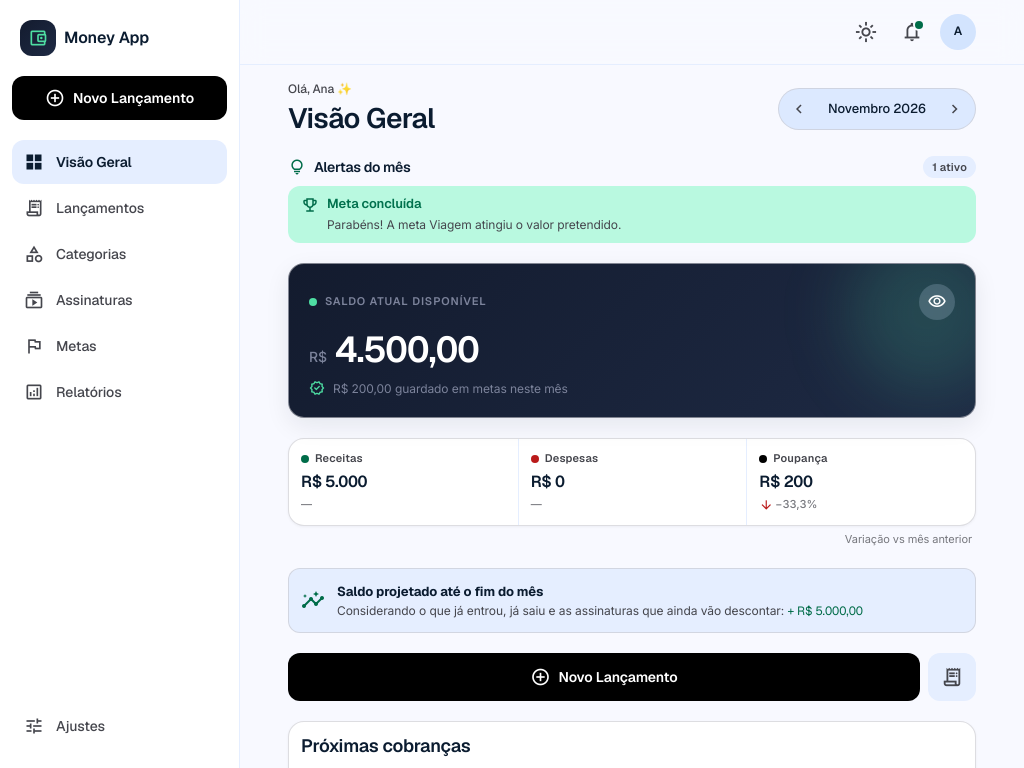
Test: Início: poupança = aportes em metas › KPI "Poupança" soma os aportes do mês e o saldo disponível desconta os aportes
Expected: the text with test id "balance-value" reads "4.500,00", [335,326,479,373]
Expected: the text "R$ 200,00 guardado em metas neste mês" is shown, [333,380,568,397]
# Um novo aporte em Metas reduz o saldo disponível e aumenta a poupança do mês.
Click the link "Metas" at x=60, y=346, box [24,334,97,358]
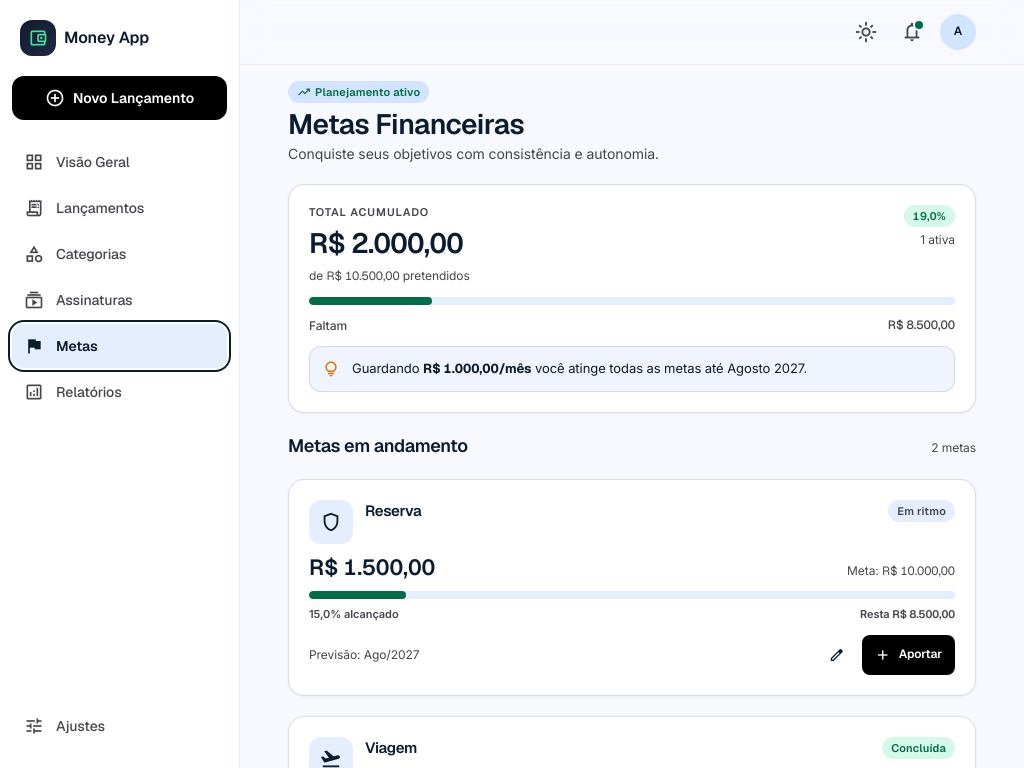
Expected: the heading "Metas Financeiras" is shown, [288,106,524,142]
Click the button "Aportar" at x=908, y=655, box [862,635,955,675]
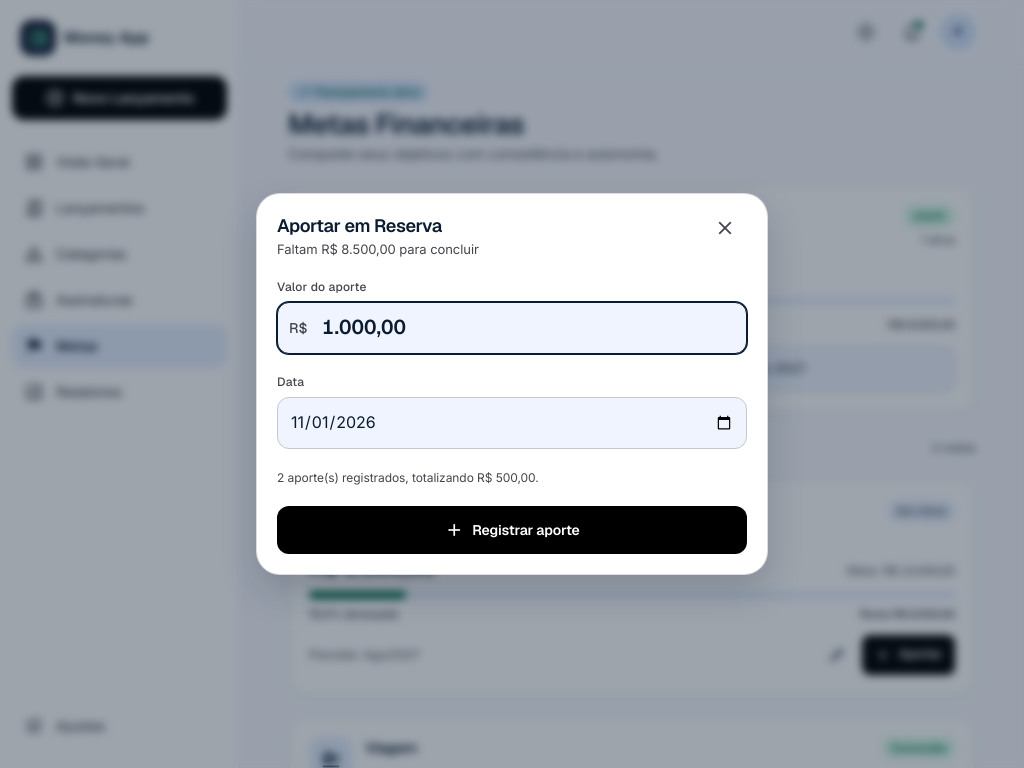
Expected: the field labelled "Valor do aporte" holds "1.000,00", [277,302,747,354]
Click the button "Registrar aporte" at x=512, y=530, box [277,506,747,554]
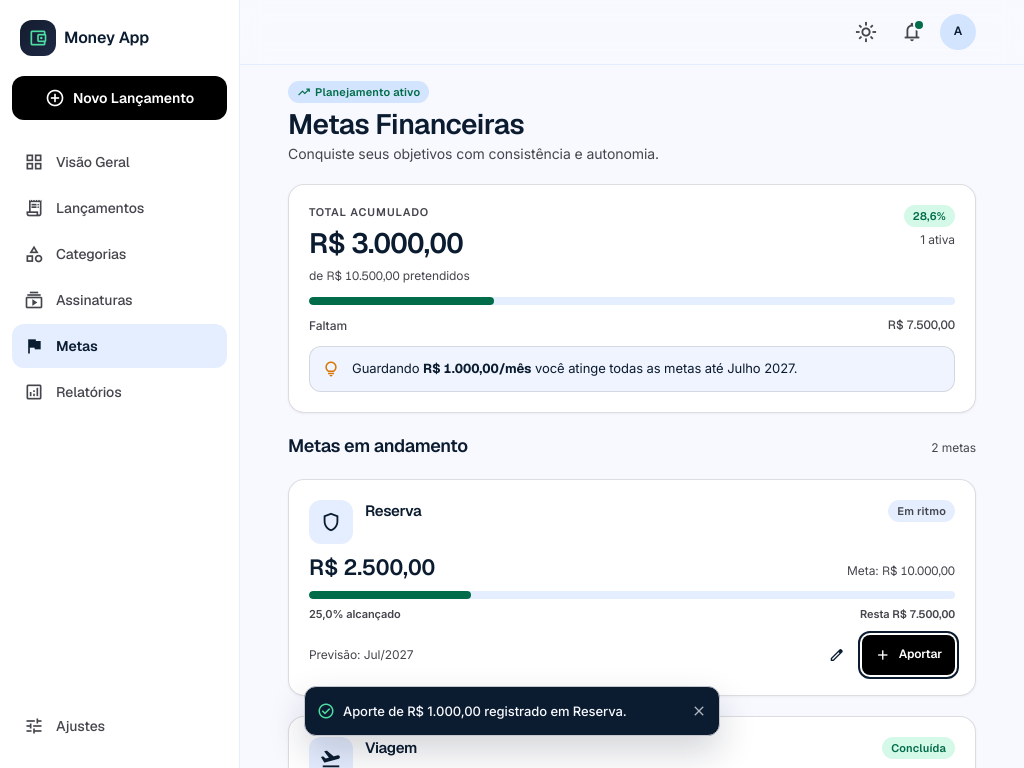
Expected: the dialog is gone
Click the link "Visão Geral" at x=77, y=162, box [24,150,130,174]
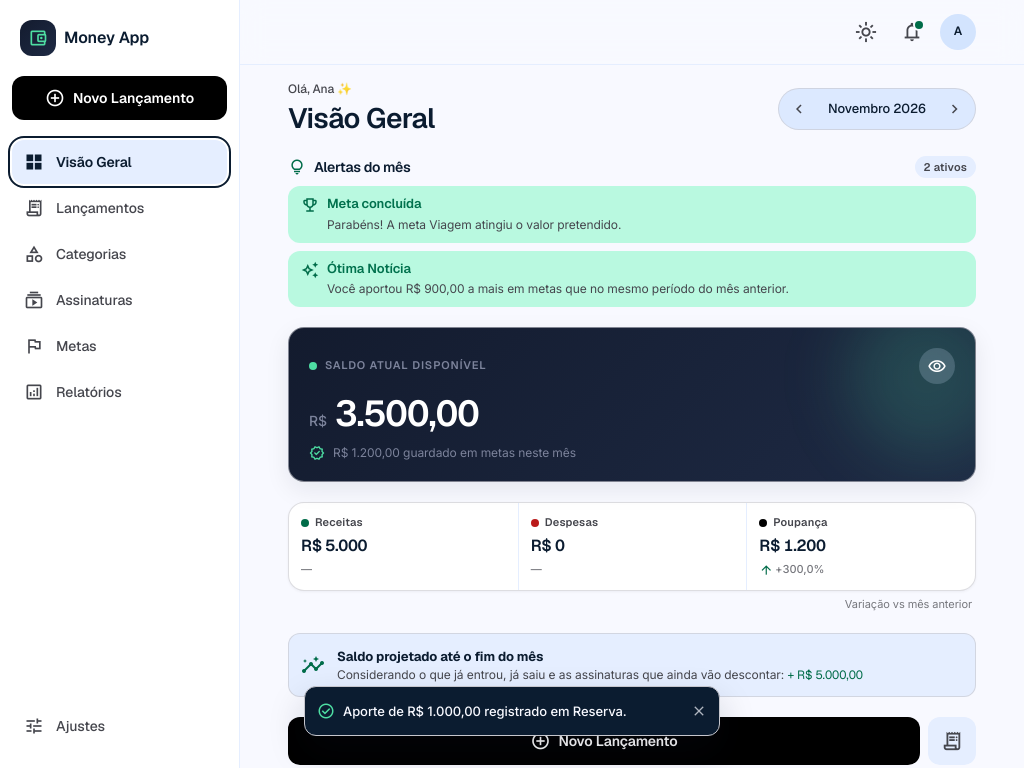
Expected: the text with test id "balance-value" reads "3.500,00", [335,390,479,437]
Expected: the text "R$ 1.200" is shown, [759,535,826,556]
